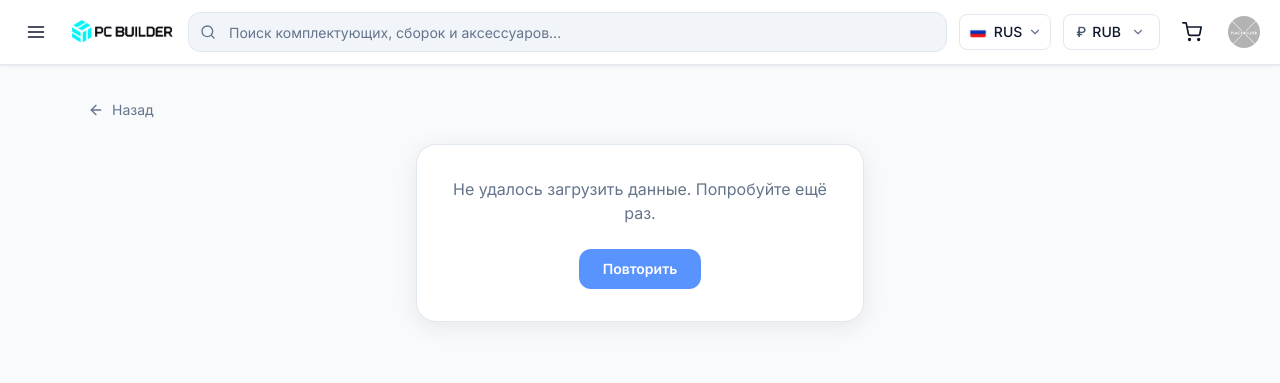
Scenario: account page session restore › shows an explicit retry instead of the guest panel when the first check fails, then the guest panel
The width and height of the screenshot is (1280, 383).
Expected: the message shows "Не удалось загрузить", [453,179,827,223]
Expected: the text "Войдите в аккаунт, чтобы управлять профилем и заказами." is not shown
Click the button "Повторить". click: (640, 269)
box: [579,249,701,289]
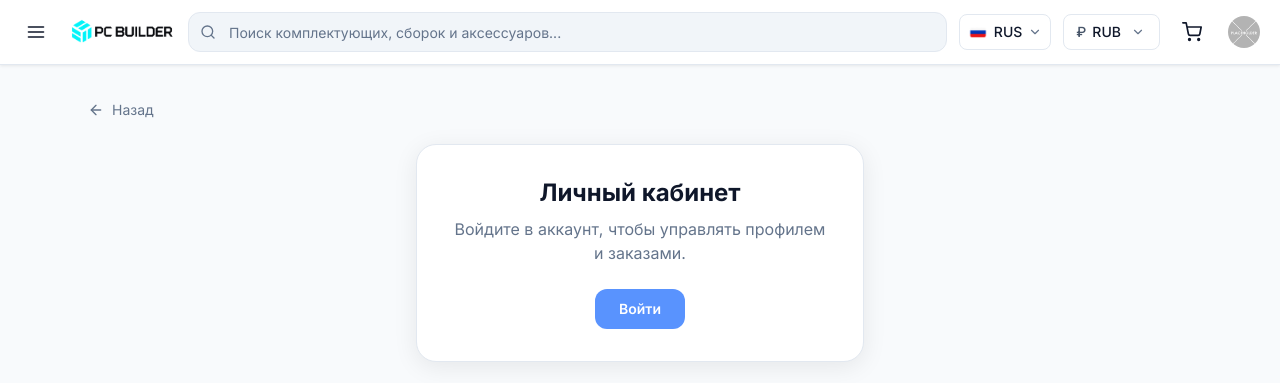
Now the text "Войдите в аккаунт, чтобы управлять профилем и заказами." is shown, box [449,217,831,265]
